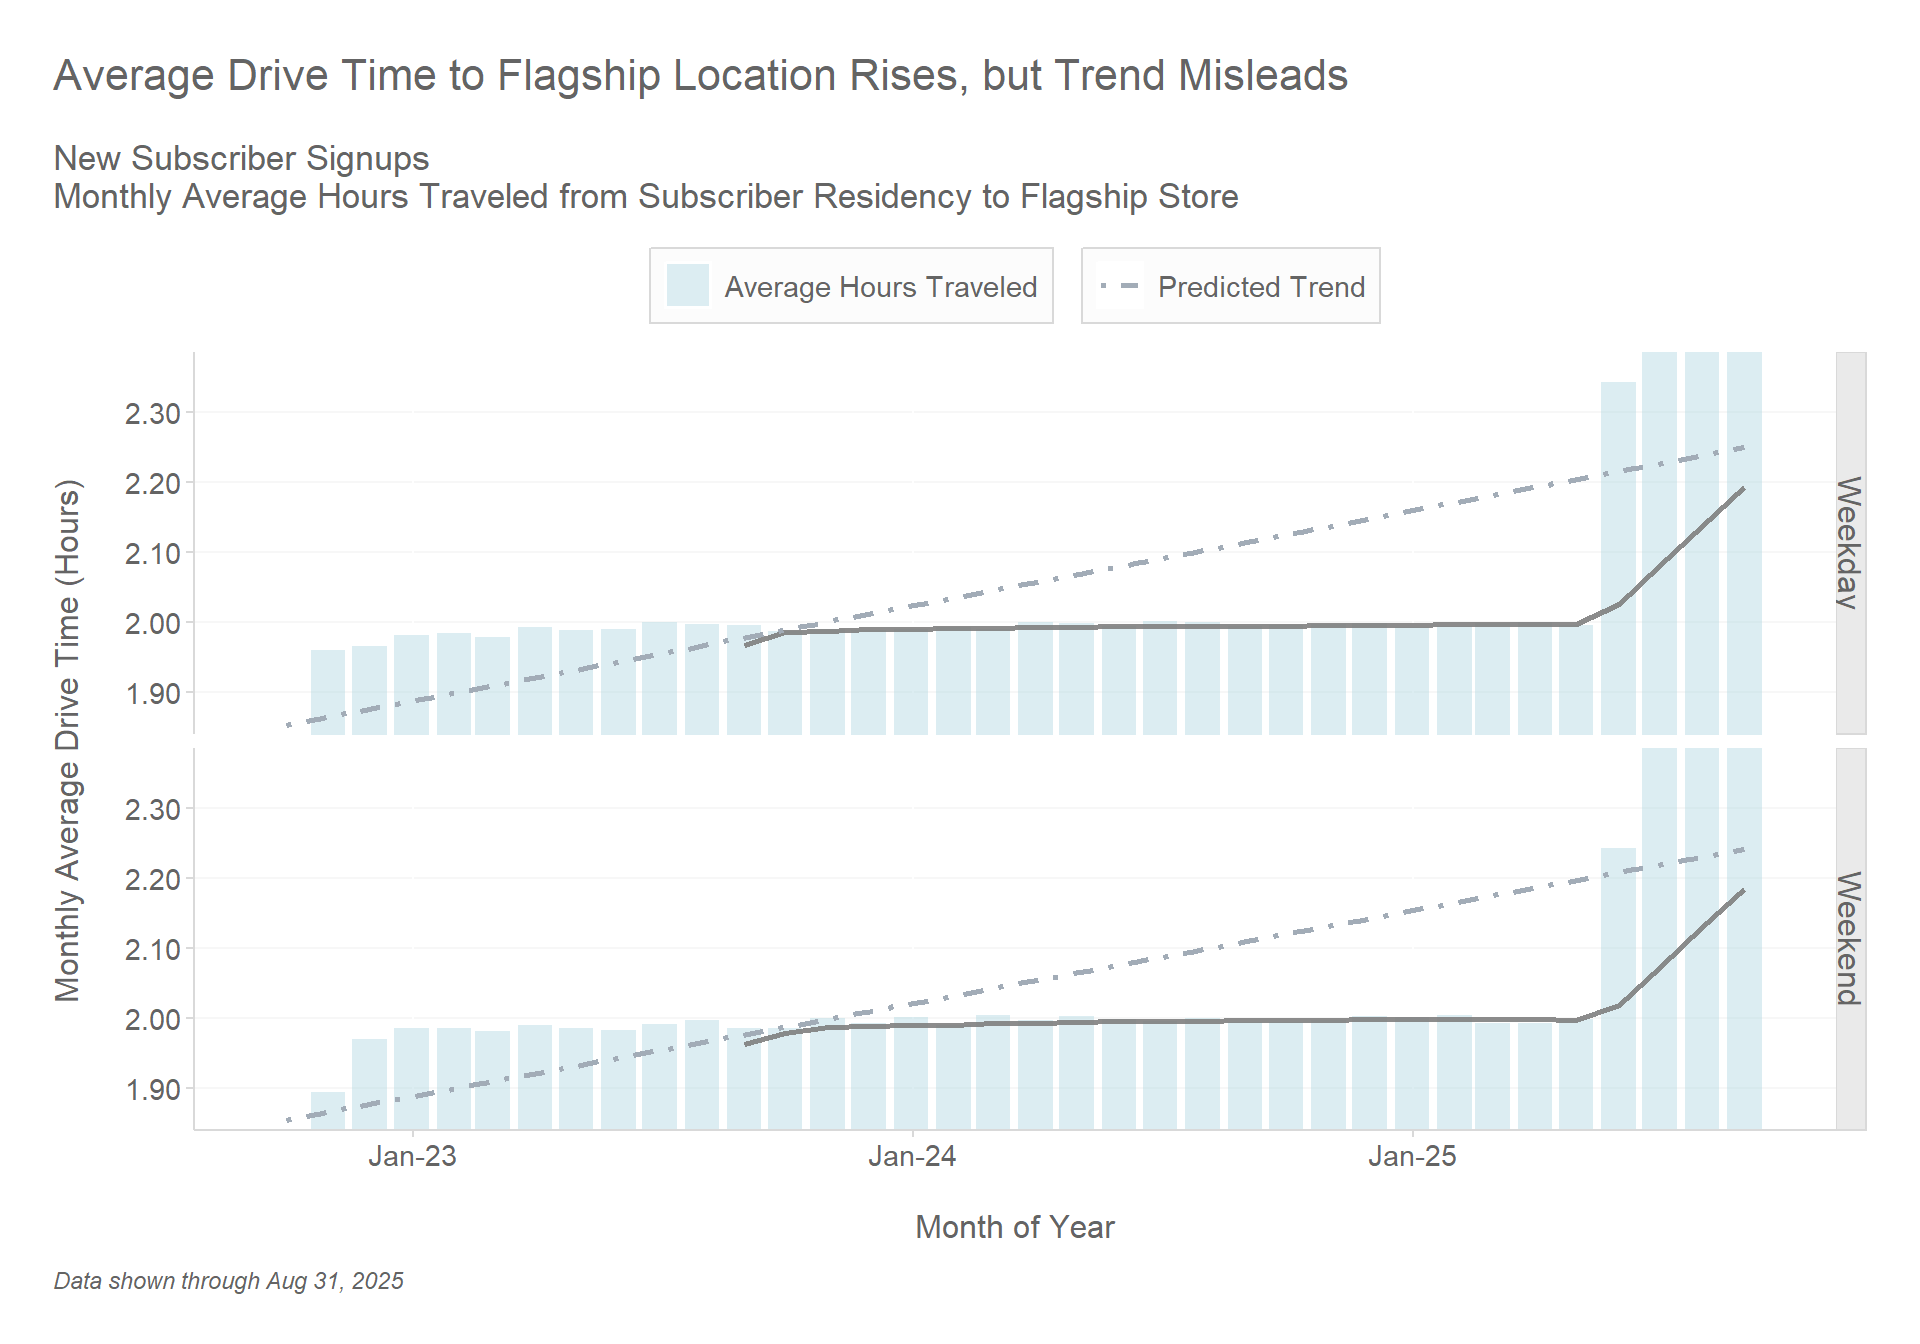

The page's visual inventory and layout, read from the dashboard file:
{"tool":"tableau","page":{"name":"Dashboard TS","canvas":[1016,964],"ordinal":1},"visuals":[{"type":"blank","box":[8,8,162.6,38.7]},{"type":"worksheet","title":"Time Series","mark":"Bar","rows":["calculation","value","value"],"cols":["MONTH_END"],"box":[170.6,8,837.4,948]},{"type":"filter","title":"Time Series","param":"[federated.1atp5sv15v3jza1d6jdue160i6nr].[none:metric:nk]","box":[8,46.7,162.6,274.3]},{"type":"filter","title":"Time Series","param":"[federated.1atp5sv15v3jza1d6jdue160i6nr].[none:SOURCE_PROP_GROUP:nk]","box":[8,321,162.6,105]},{"type":"legend","title":"Time Series","param":"[federated.1atp5sv15v3jza1d6jdue160i6nr].[usr:Calculation_1957940001497505793:nk","box":[8,426,162.6,530]}]}

Visuals, with their boxes on the page's 1016x964 design canvas (x1, y1, x2, y2). These are canvas units, not pixel positions in the 1920x1344 screenshot, which may show the page scaled, cropped or inside an application window:
blank: [8,8,171,47]
"Time Series" worksheet (Bar marks): [171,8,1008,956]
"Time Series" filter: [8,47,171,321]
"Time Series" filter: [8,321,171,426]
"Time Series" legend: [8,426,171,956]
